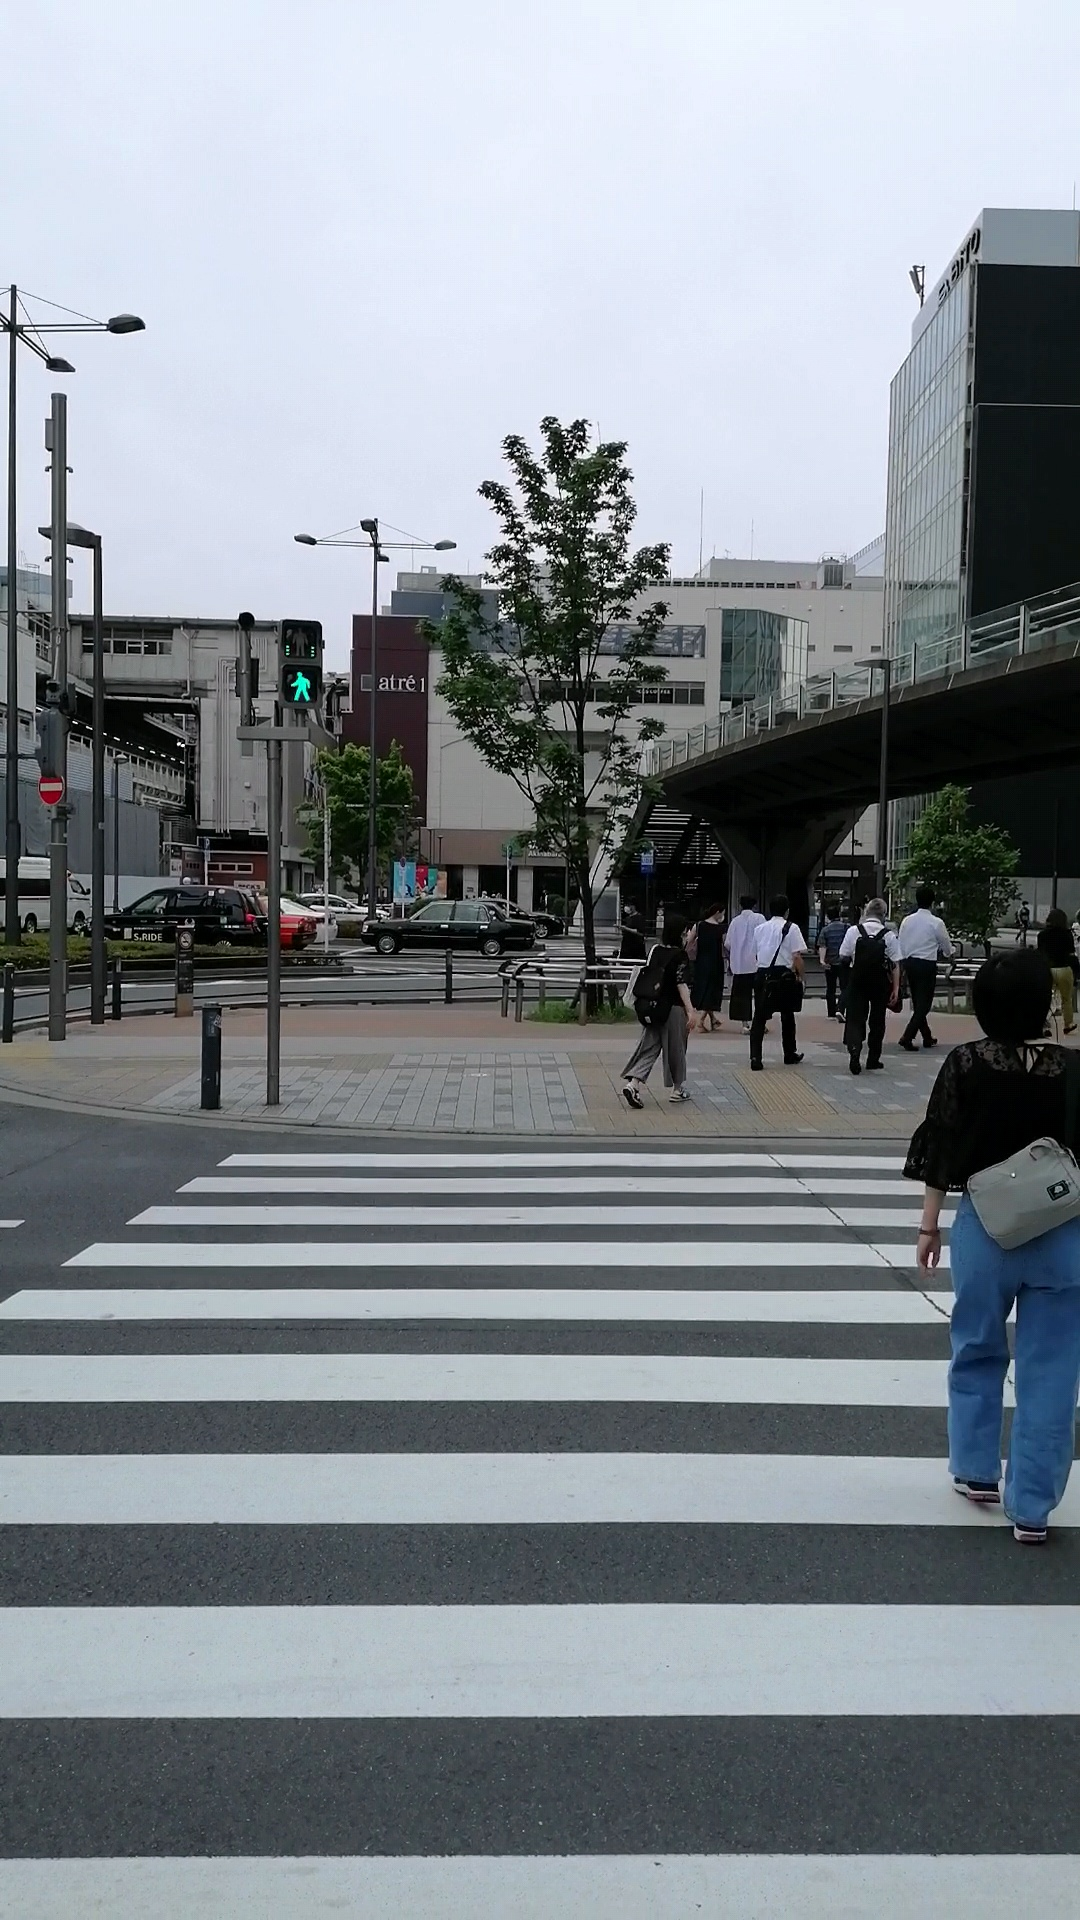green: (277, 618, 324, 708)
